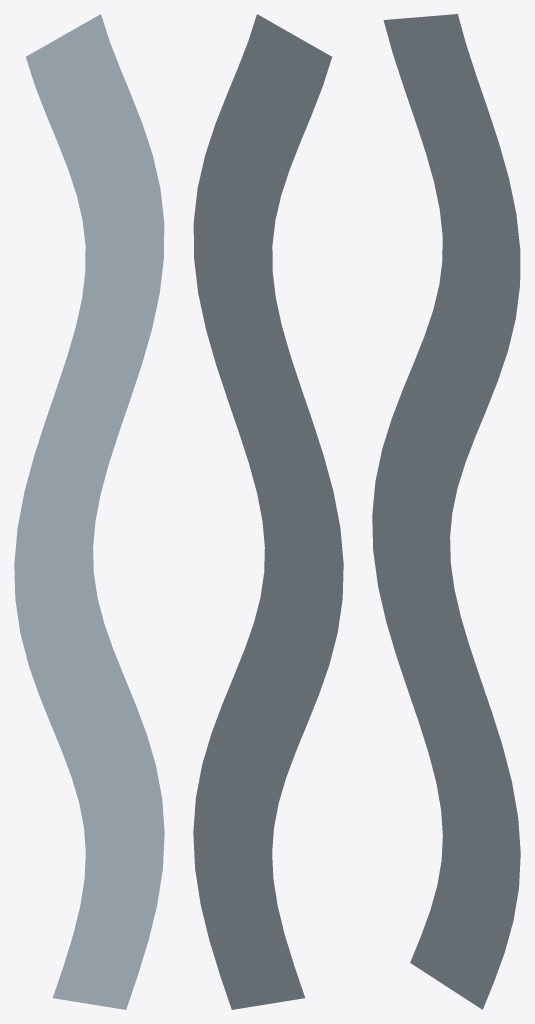
File: Zhongli_PlanetBefall_MeteorDescendingTail0.fbx
The picture shows the model from 3 angles, left to right: view 1: azimuth 30°, elevation 25°; view 2: azimuth 150°, elevation 25°; view 3: azimuth 330°, elevation 25°; orthographic projection.
Parts seen in each view (by area): view 1: PART_MeteorDescendingTail0; view 2: PART_MeteorDescendingTail0; view 3: PART_MeteorDescendingTail0.
Part boxes in pixels (x1,y1,x2,y2): PART_MeteorDescendingTail0: (14, 14, 164, 1009); PART_MeteorDescendingTail0: (193, 14, 343, 1009); PART_MeteorDescendingTail0: (372, 14, 520, 1009).
Bounding box in the file's own units: 41.95 × 267 × 4.35e-05.
